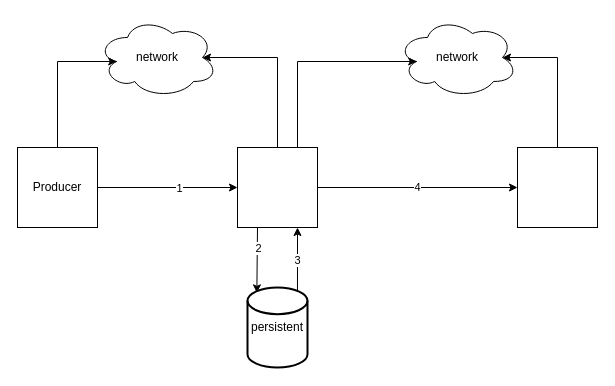
The diagram is 615 pixels wide and 386 high, and some of its shapes have lost their labels. Here are the shapes that lost their labels. From the top down, the centre of each, then its label:
At (x=277, y=187): "Broker".
At (x=557, y=187): "Consumer".
